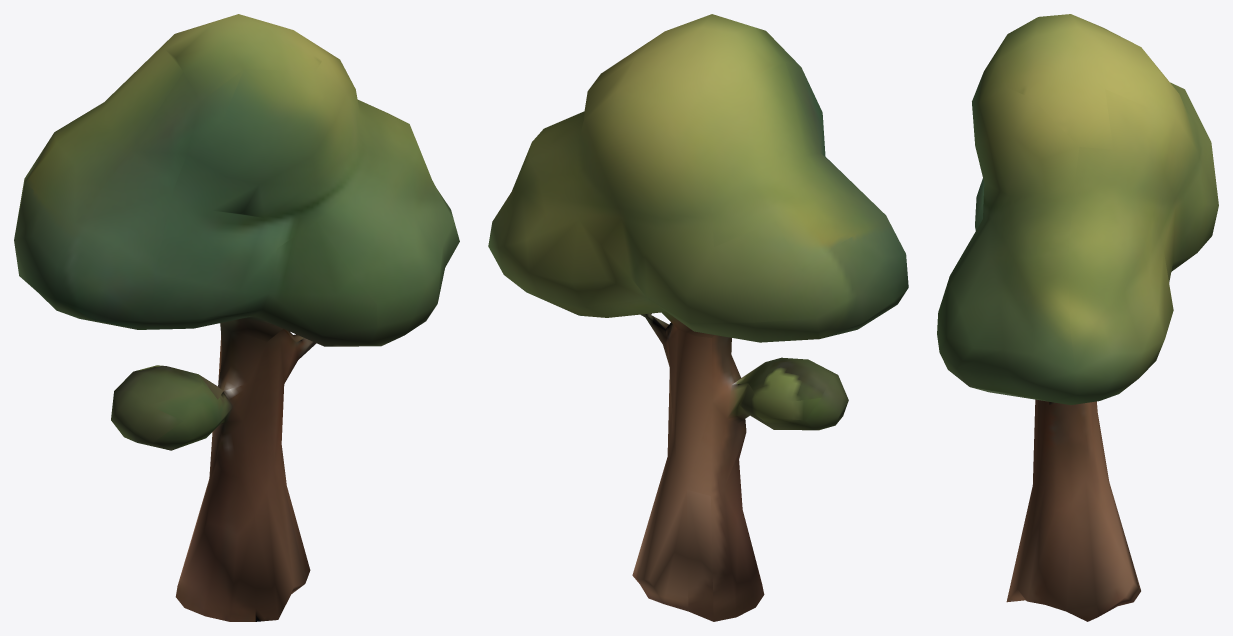
Rendered from Tree_1.fbx.
The picture shows the model from 3 angles, left to right: view 1: azimuth 30°, elevation 25°; view 2: azimuth 150°, elevation 25°; view 3: azimuth 270°, elevation 25°; orthographic projection. The views are drawn at different scales.
Parts seen in each view (by area): view 1: tree_01; view 2: tree_01; view 3: tree_01.
Part boxes in pixels (x1,y1,x2,y2): tree_01: (14,14,459,621); tree_01: (488,14,908,621); tree_01: (937,14,1218,621).
Bounding box in the file's own units: 1.98 × 2.65 × 1.18.
